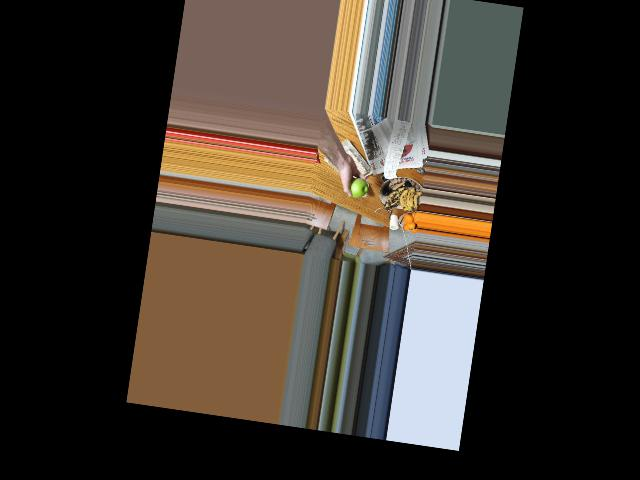apple: (345, 174, 368, 200)
